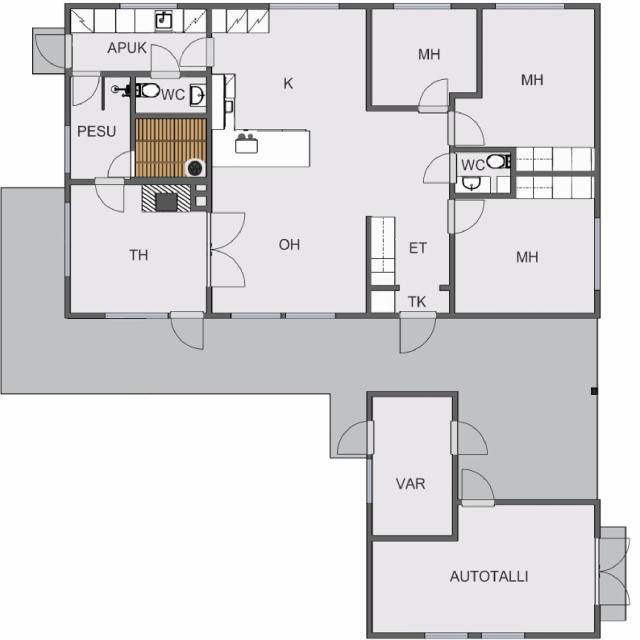door: (206, 250, 248, 288), (400, 312, 436, 356), (206, 213, 248, 250), (594, 538, 632, 572), (171, 312, 203, 350), (594, 572, 632, 604), (334, 422, 372, 454), (449, 201, 486, 233), (34, 35, 70, 67), (453, 422, 489, 454), (463, 468, 493, 504), (449, 114, 485, 144), (419, 76, 447, 111), (151, 42, 179, 77), (96, 179, 123, 214), (422, 155, 455, 183), (179, 38, 212, 66), (73, 71, 99, 105), (106, 152, 136, 176)
